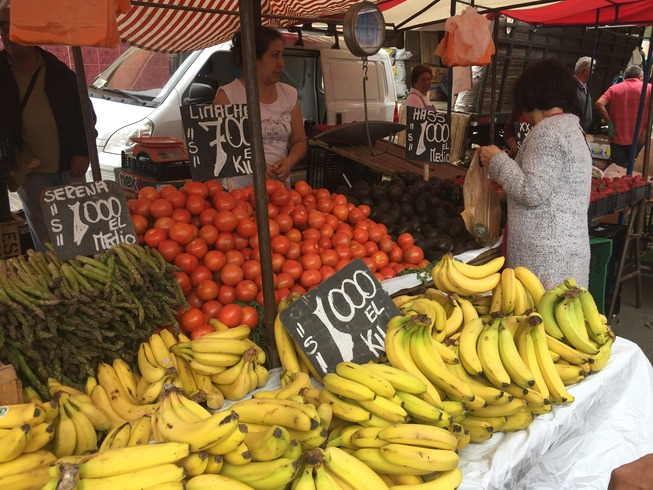precio: (272, 259, 417, 387), (34, 178, 148, 274), (177, 98, 270, 194), (403, 99, 460, 171)
